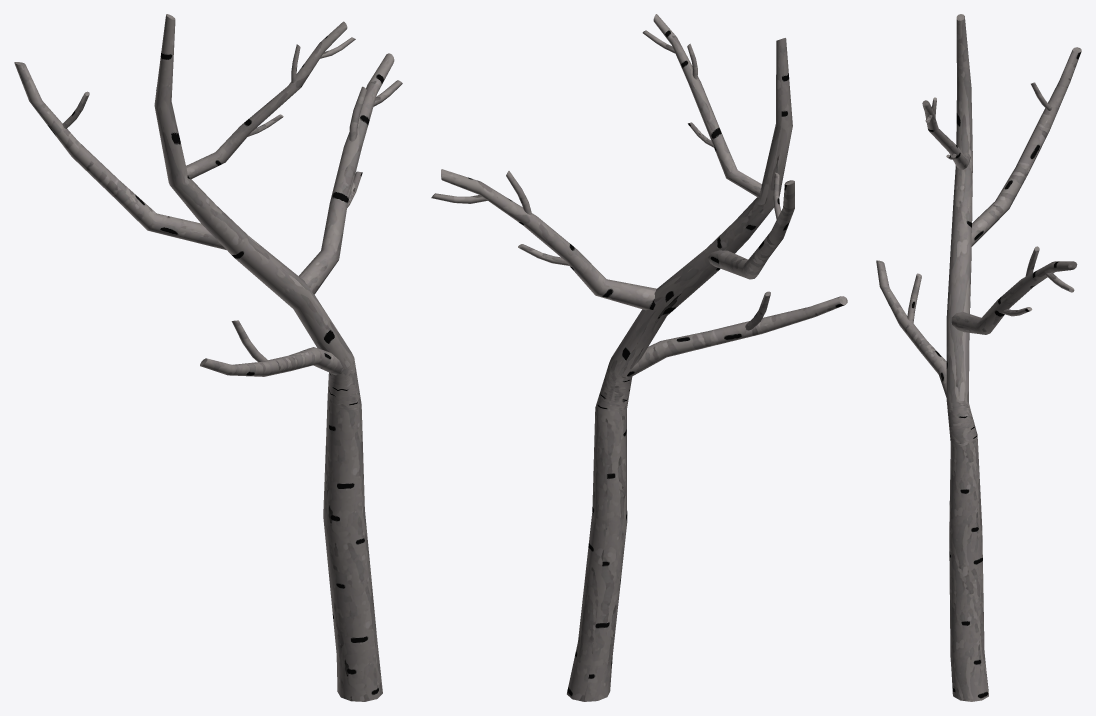
Rendered from deadbirch_6.glb.
3 renders of one model, left to right at view 1: azimuth 30°, elevation 25°; view 2: azimuth 150°, elevation 25°; view 3: azimuth 270°, elevation 25°, orthographic. The views are drawn at different scales.
Parts seen in each view (by area): view 1: DeadBirch_6; view 2: DeadBirch_6; view 3: DeadBirch_6.
Boxes of the visible parts, box(x1,y1,x2,y2) form: DeadBirch_6: box(14, 14, 402, 701); DeadBirch_6: box(431, 14, 847, 701); DeadBirch_6: box(876, 14, 1081, 701).
Size of the model in its own units: 5.13 by 9.34 by 2.9.
Materials: 1 (1 with a texture image).
